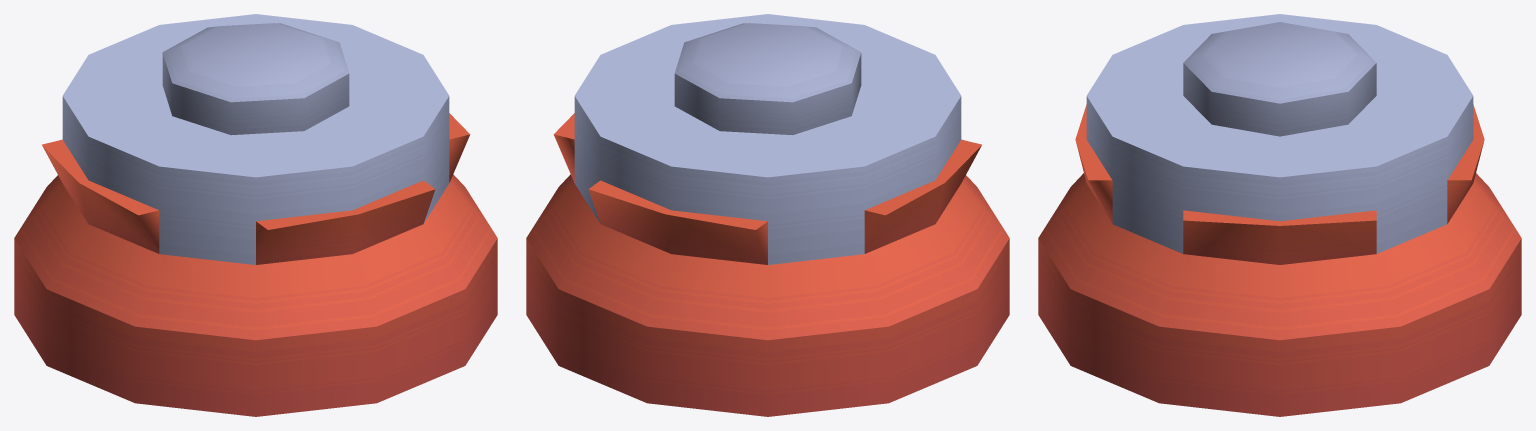
File: tower-defense-kit--tower-round-bottom-c.glb
3 renders of one model, left to right at view 1: azimuth 30°, elevation 25°; view 2: azimuth 150°, elevation 25°; view 3: azimuth 270°, elevation 25°, orthographic.
Visible parts, largest first — view 1: tower-round-bottom-c; view 2: tower-round-bottom-c; view 3: tower-round-bottom-c.
Part boxes in pixels (box(x1,y1,x2,y2)): tower-round-bottom-c: box(14, 14, 497, 416); tower-round-bottom-c: box(526, 14, 1009, 416); tower-round-bottom-c: box(1038, 14, 1521, 416).
Size of the model in its own units: 1 by 0.6 by 1.
1 material, 1 textured.
